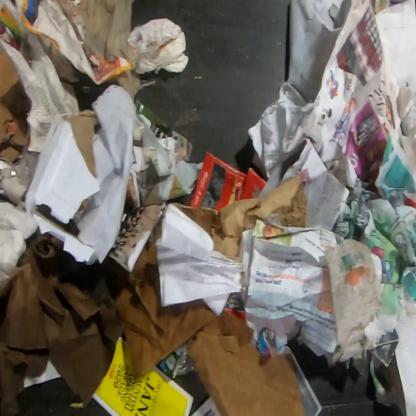cardboard: (24, 111, 117, 264), (188, 150, 267, 212), (0, 43, 32, 165)
rigid_plastic: (159, 341, 196, 379)
